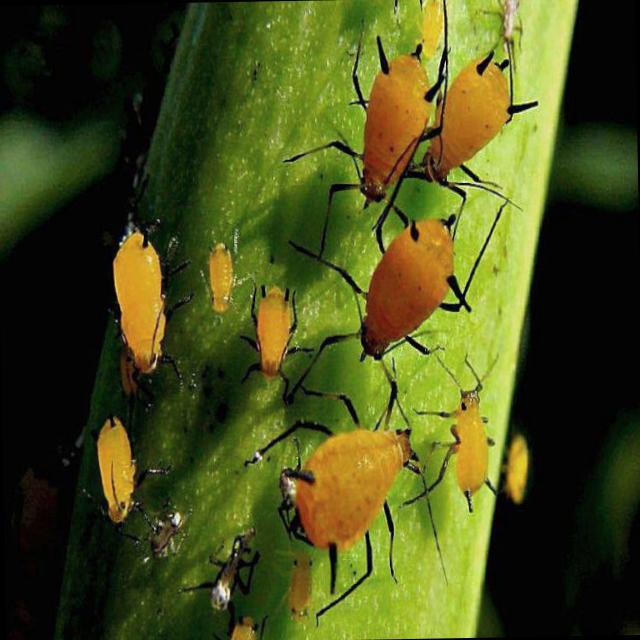Aphid: (286, 185, 494, 402), (262, 386, 430, 604), (287, 54, 452, 254), (106, 223, 181, 383), (234, 284, 310, 412), (440, 382, 504, 495), (93, 412, 143, 527), (204, 242, 240, 315)
